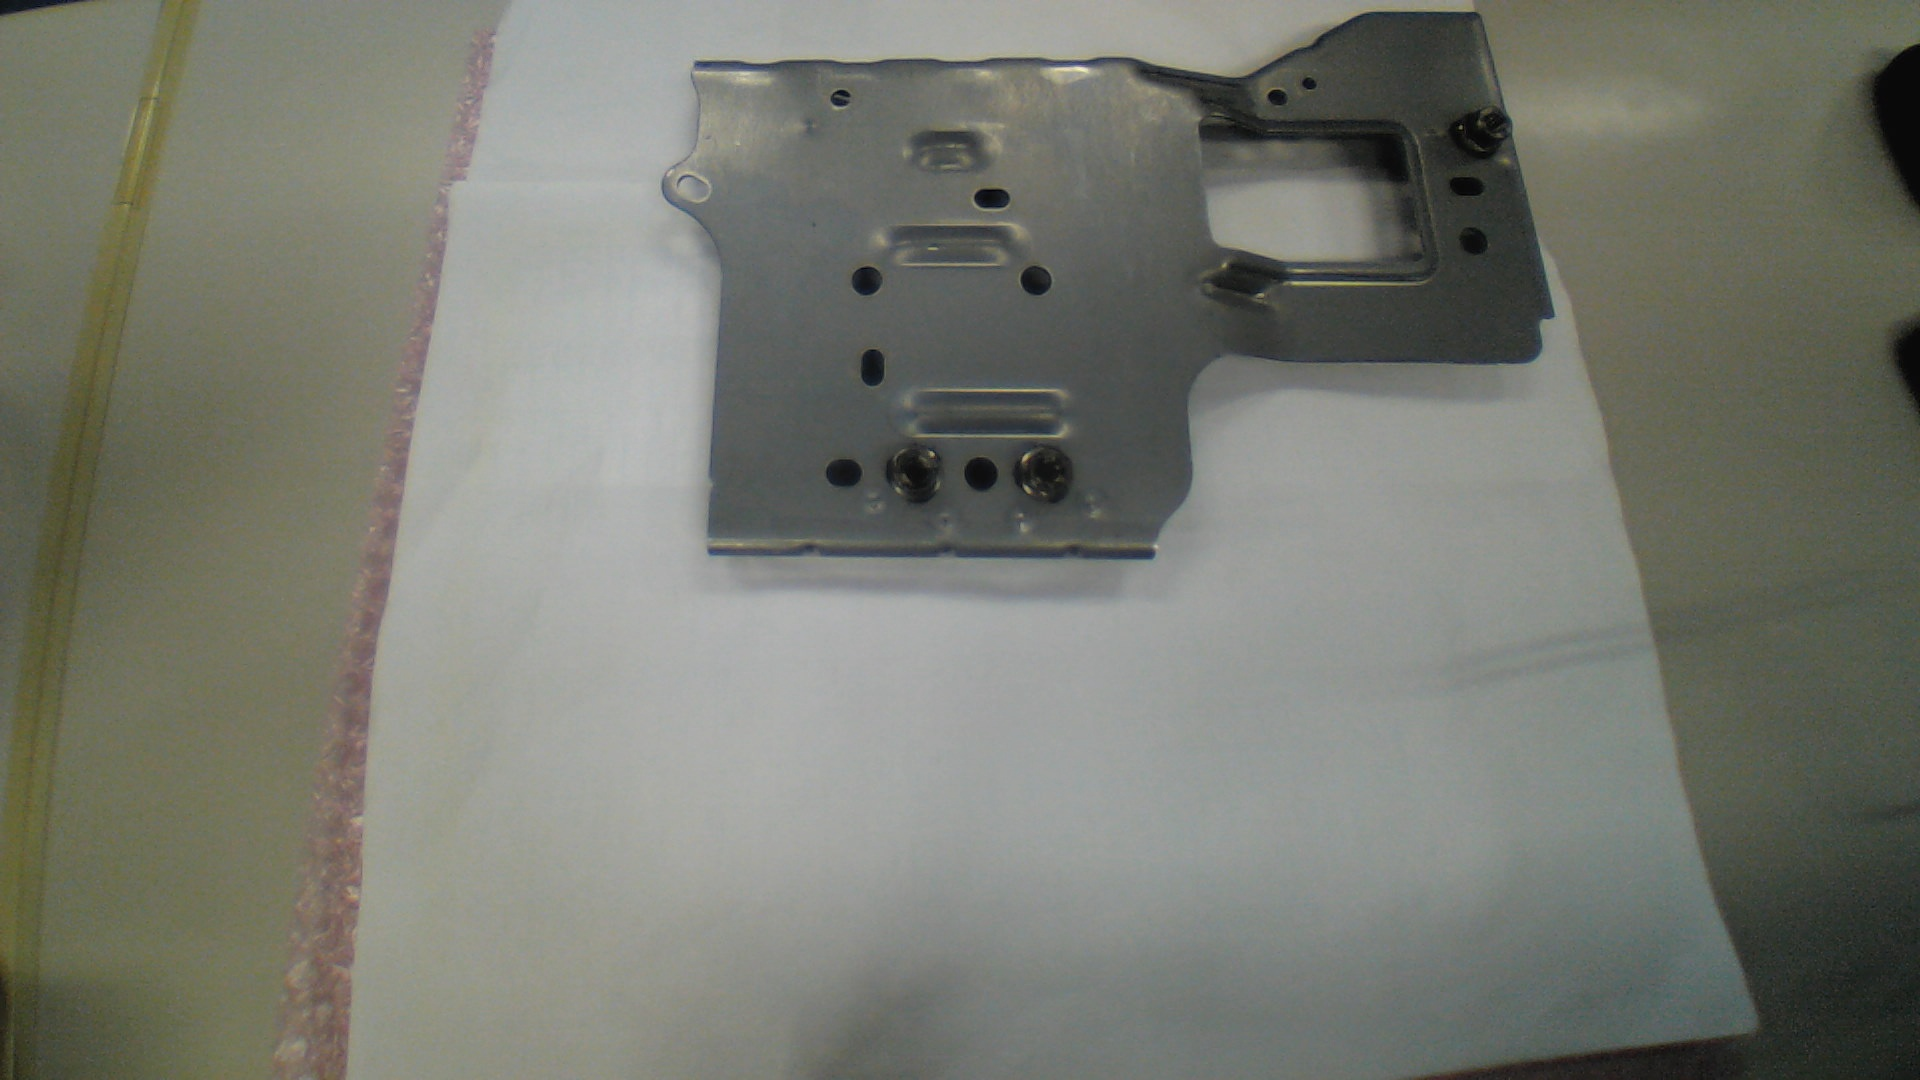dog: (1011, 444, 1075, 506), (884, 444, 945, 506), (1451, 105, 1514, 160)
